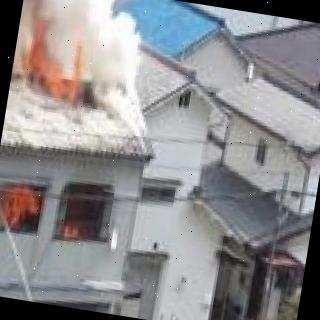fire: (11, 0, 111, 105), (0, 179, 109, 255)
